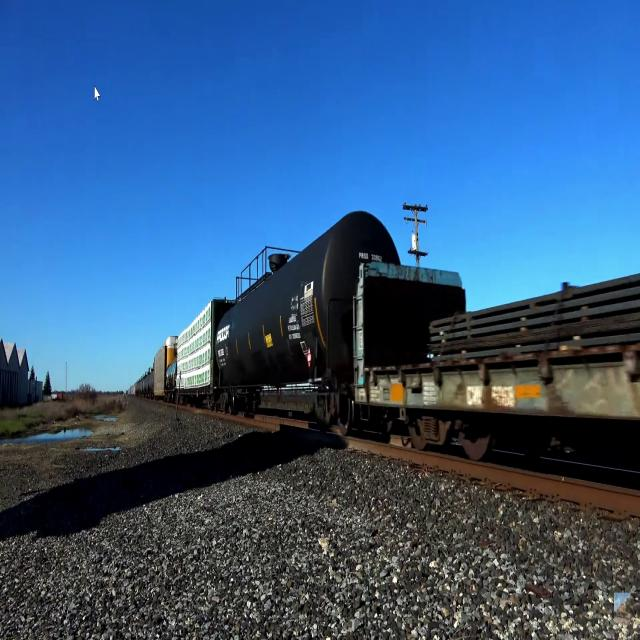cargo: (429, 267, 640, 373)
flatcar_bulkhead: (352, 250, 640, 477)
tank: (216, 206, 405, 420)
